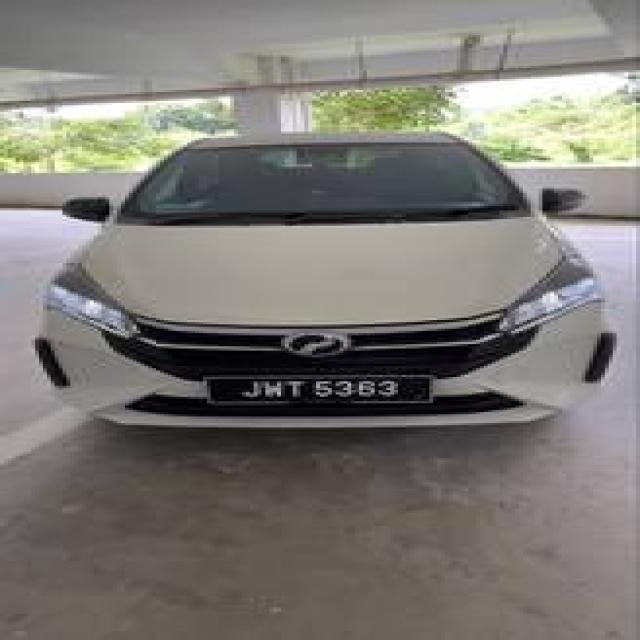PeroduaMyvi: (31, 129, 617, 430)
